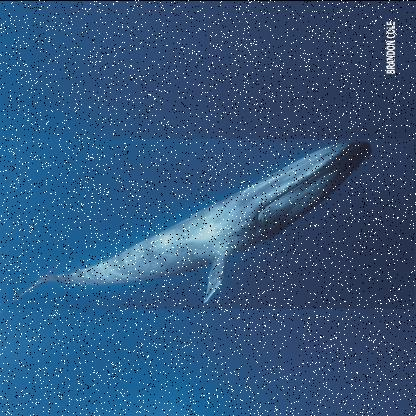blue_whale: (10, 137, 416, 308)
